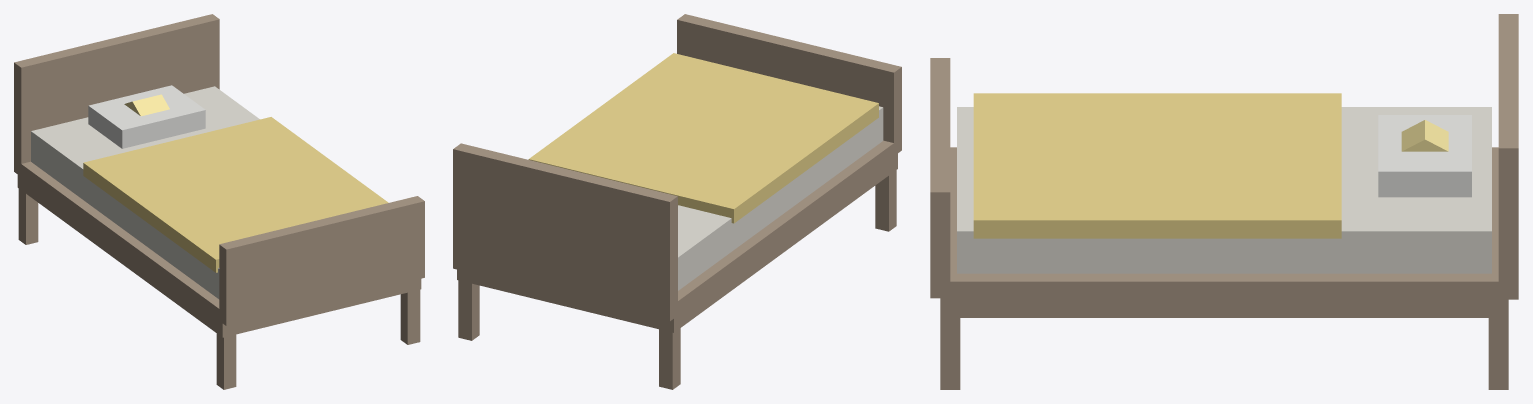
Rendered from Child_bed.glb.
The picture shows the model from 3 angles, left to right: view 1: azimuth 30°, elevation 25°; view 2: azimuth 150°, elevation 25°; view 3: azimuth 270°, elevation 25°; orthographic projection. The views are drawn at different scales.
Visible parts, largest first — view 1: Child_bed; view 2: Child_bed; view 3: Child_bed.
Boxes of the visible parts, x1,y1,x2,y2 form: Child_bed: [14, 14, 424, 389]; Child_bed: [453, 14, 901, 389]; Child_bed: [930, 14, 1518, 389].
Bounding box in the file's own units: 0.95 × 0.8 × 1.76.
